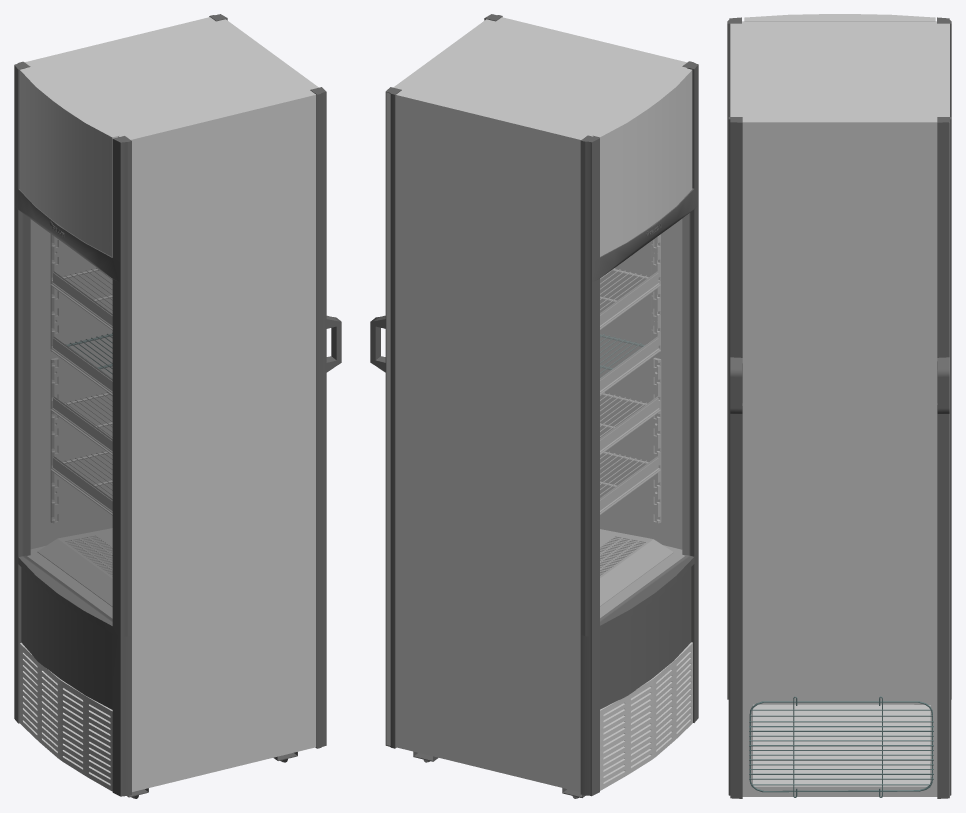
The model's file is CoolCell_Final 1.fbx.
3 renders of one model, left to right at view 1: azimuth 30°, elevation 25°; view 2: azimuth 150°, elevation 25°; view 3: azimuth 270°, elevation 25°, orthographic. The views are drawn at different scales.
Parts seen in each view (by area): view 1: Coolcell_Structure, Coolcell_FrontStructure, CoolCell_Window, Coolcell_UpStructure, Coolcell_backgrip, Coolcell_Downstructure, CoolCell_downgrid, Coolcell_GridSupport4, Coolcell_GridFront3, Coolcell_GridFront, Coolcell_GridFront2, Coolcell_GridFront1 (+1 smaller); view 2: Coolcell_Structure, Coolcell_FrontStructure, CoolCell_Window, Coolcell_UpStructure, Coolcell_Downstructure, Coolcell_backgrip, CoolCell_downgrid, Coolcell_GridSupport4, Coolcell_GridFront, Coolcell_GridFront1, Coolcell_GridFront3, Coolcell_GridFront2 (+1 smaller); view 3: Coolcell_Structure, Coolcell_backgrip, CoolCell_BackGrid3, Coolcell_FrontStructure, Coolcell_UpStructure.
Boxes of the visible parts, x1=… form: Coolcell_Structure: x1=25, y1=17, x2=318, y2=791; Coolcell_FrontStructure: x1=14, y1=61, x2=131, y2=796; CoolCell_Window: x1=22, y1=213, x2=112, y2=621; Coolcell_UpStructure: x1=19, y1=68, x2=119, y2=256; Coolcell_backgrip: x1=209, y1=14, x2=341, y2=748; Coolcell_Downstructure: x1=19, y1=642, x2=112, y2=791; CoolCell_downgrid: x1=37, y1=528, x2=112, y2=606; Coolcell_GridSupport4: x1=50, y1=358, x2=58, y2=523; Coolcell_GridFront3: x1=51, y1=271, x2=112, y2=330; Coolcell_GridFront: x1=51, y1=456, x2=112, y2=515; Coolcell_GridFront2: x1=51, y1=336, x2=112, y2=395; Coolcell_GridFront1: x1=51, y1=396, x2=112, y2=455; Coolcell_Structure: x1=386, y1=17, x2=686, y2=792; Coolcell_FrontStructure: x1=580, y1=61, x2=698, y2=796; CoolCell_Window: x1=600, y1=213, x2=689, y2=621; Coolcell_UpStructure: x1=592, y1=68, x2=692, y2=256; Coolcell_Downstructure: x1=600, y1=642, x2=692, y2=790; Coolcell_backgrip: x1=370, y1=14, x2=502, y2=748; CoolCell_downgrid: x1=600, y1=529, x2=673, y2=606; Coolcell_GridSupport4: x1=653, y1=358, x2=661, y2=523; Coolcell_GridFront: x1=600, y1=456, x2=660, y2=514; Coolcell_GridFront1: x1=600, y1=396, x2=660, y2=454; Coolcell_GridFront3: x1=600, y1=271, x2=660, y2=329; Coolcell_GridFront2: x1=600, y1=336, x2=660, y2=394; Coolcell_Structure: x1=730, y1=21, x2=949, y2=796; Coolcell_backgrip: x1=728, y1=117, x2=951, y2=798; CoolCell_BackGrid3: x1=749, y1=696, x2=933, y2=797; Coolcell_FrontStructure: x1=727, y1=17, x2=951, y2=699; Coolcell_UpStructure: x1=744, y1=14, x2=935, y2=21.
Bounding box in the file's own units: 70.72 × 195 × 57.44.
